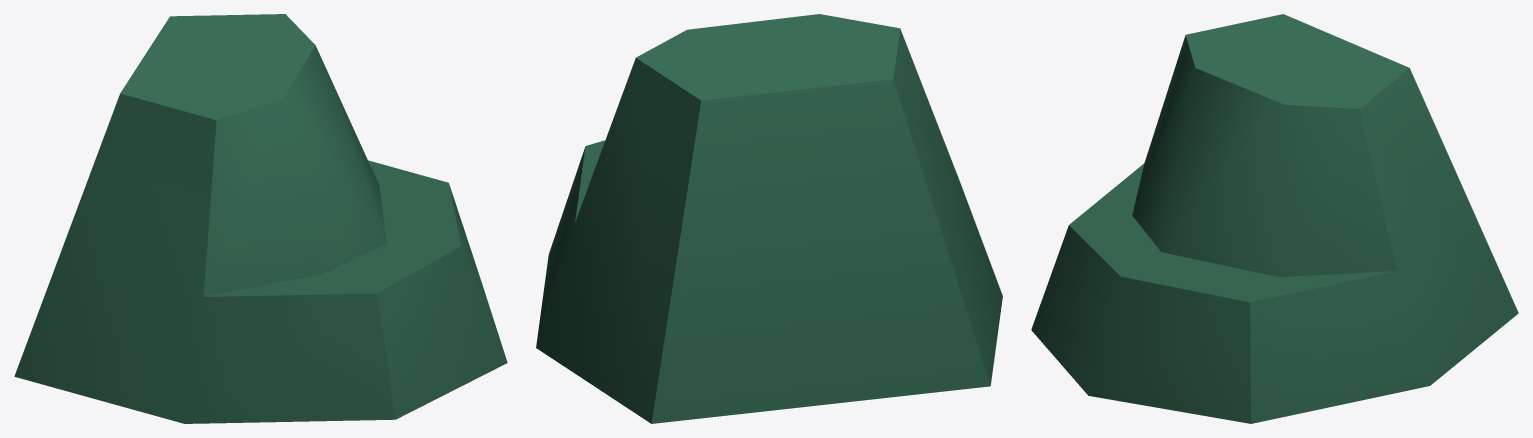
File: rockB-elf.glb
The picture shows the model from 3 angles, left to right: view 1: azimuth 30°, elevation 25°; view 2: azimuth 150°, elevation 25°; view 3: azimuth 270°, elevation 25°; orthographic projection. The views are drawn at different scales.
Visible parts, largest first — view 1: rockB-elf; view 2: rockB-elf; view 3: rockB-elf.
Boxes of the visible parts, bbox=[...] form: rockB-elf: bbox=[14, 14, 507, 423]; rockB-elf: bbox=[536, 14, 1002, 423]; rockB-elf: bbox=[1031, 14, 1518, 423].
Size of the model in its own units: 0.3439 by 0.1948 by 0.3442.
